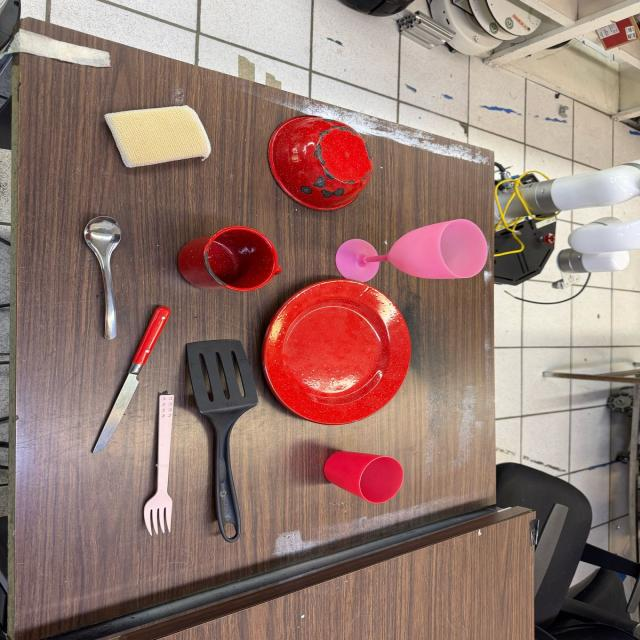cup: (177, 227, 284, 294)
fork: (142, 394, 177, 537)
glass: (322, 449, 403, 505)
knife: (93, 306, 172, 452)
plate: (263, 282, 413, 429)
spatula: (185, 341, 261, 542)
sponge: (103, 106, 213, 170)
spoon: (82, 215, 124, 341)
tazon: (267, 113, 374, 211)
wineglass: (331, 216, 492, 281)
